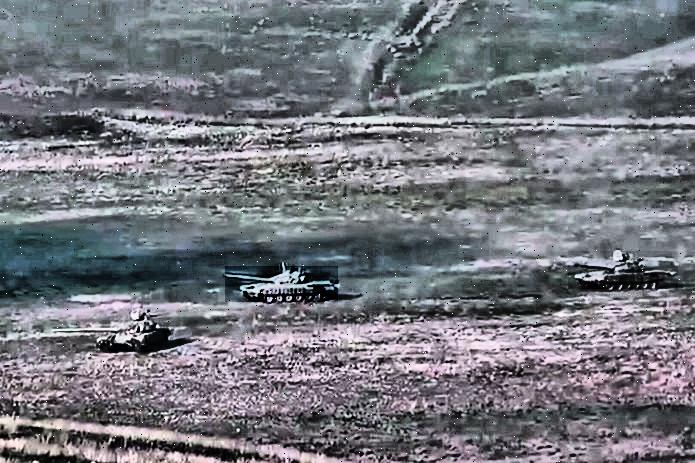military-vehicle: (51, 312, 173, 356), (568, 251, 678, 289), (225, 266, 338, 302)
